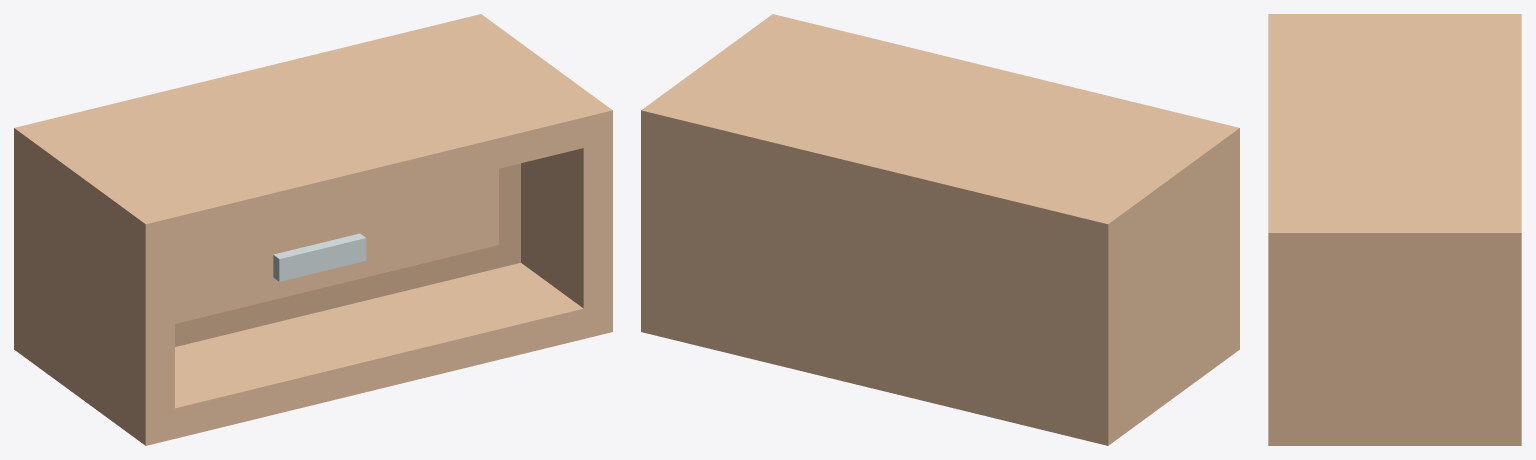
File: kitchenCabinetUpperLow.glb
3 views of the same model, side by side, from view 1: azimuth 30°, elevation 25°; view 2: azimuth 150°, elevation 25°; view 3: azimuth 270°, elevation 25° (orthographic). The views are drawn at different scales.
Visible parts, largest first — view 1: kitchenCabinetUpperLow, kitchenCabinetUpperLow.001; view 2: kitchenCabinetUpperLow; view 3: kitchenCabinetUpperLow.
Boxes of the visible parts, left/top/right/bottom form: kitchenCabinetUpperLow: left=14, top=14, right=612, bottom=445; kitchenCabinetUpperLow.001: left=175, top=163, right=520, bottom=346; kitchenCabinetUpperLow: left=641, top=14, right=1239, bottom=445; kitchenCabinetUpperLow: left=1268, top=14, right=1521, bottom=445.
Bounding box in the file's own units: 1.29 × 0.585 × 0.63.
